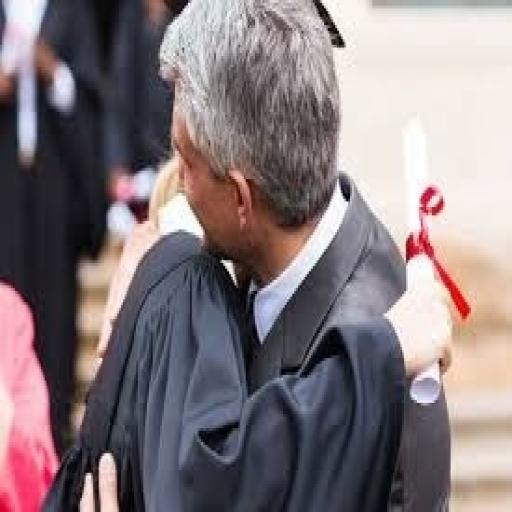hugging: (43, 0, 456, 509)
